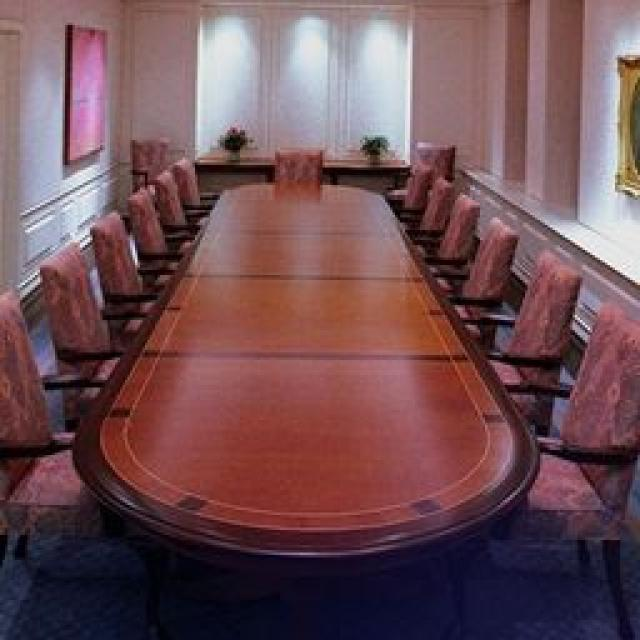cabinets: (192, 2, 415, 158)
chair: (38, 238, 142, 372), (88, 202, 170, 302), (452, 210, 518, 310), (122, 185, 185, 262), (400, 140, 452, 212), (432, 190, 480, 262), (152, 165, 192, 232), (415, 175, 452, 238), (178, 152, 212, 218), (128, 135, 168, 185), (272, 142, 318, 182)
chair -occluded-: (475, 295, 635, 635), (0, 282, 110, 535), (462, 245, 582, 430)
conference table: (70, 178, 532, 558)
counter bottom: (460, 160, 635, 282), (192, 145, 405, 165)
door bars: (0, 18, 20, 312)
painting crop: (62, 22, 102, 165), (610, 55, 638, 198)
plant -x: (212, 118, 248, 160), (358, 130, 385, 158)
